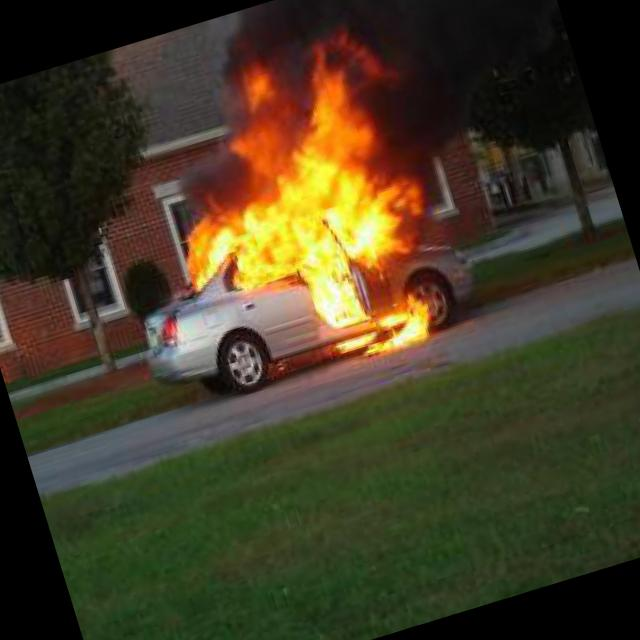fire: (148, 43, 456, 406)
